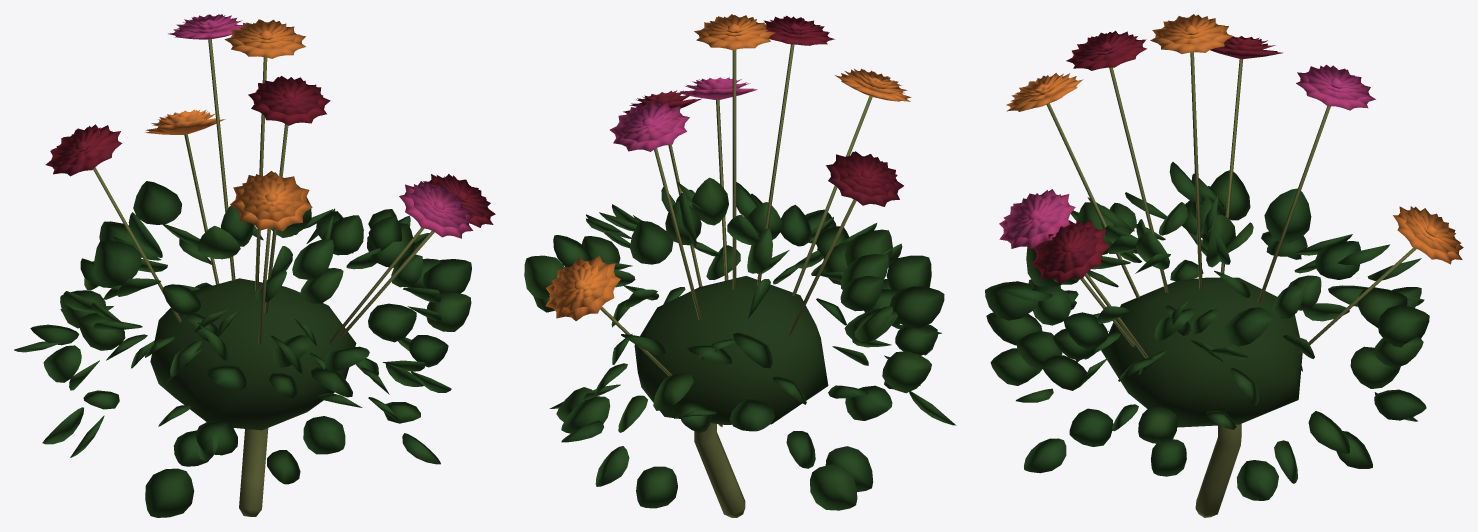
The model's file is bed_dahlia.glb.
3 renders of one model, left to right at view 1: azimuth 30°, elevation 25°; view 2: azimuth 150°, elevation 25°; view 3: azimuth 270°, elevation 25°, orthographic. The views are drawn at different scales.
Visible parts, largest first — view 1: Sammel Pflanze, Sammel Blatt, Sammel Putz; view 2: Sammel Pflanze, Sammel Blatt, Sammel Putz; view 3: Sammel Pflanze, Sammel Blatt, Sammel Putz.
Boxes of the visible parts, x1,y1,x2,y2 form: Sammel Pflanze: (14,14,495,517); Sammel Blatt: (150,278,356,430); Sammel Putz: (93,39,434,516); Sammel Pflanze: (524,14,956,510); Sammel Blatt: (634,276,828,424); Sammel Putz: (600,44,872,517); Sammel Pflanze: (985,14,1463,500); Sammel Blatt: (1101,277,1302,427); Sammel Putz: (1046,52,1416,517).
Size of the model in its own units: 0.6503 by 0.776 by 0.6778.
